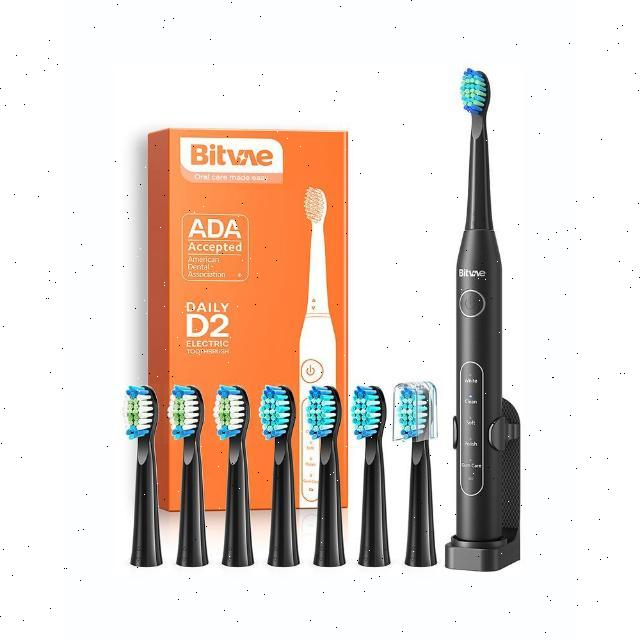toothbrush: (446, 51, 534, 588)
